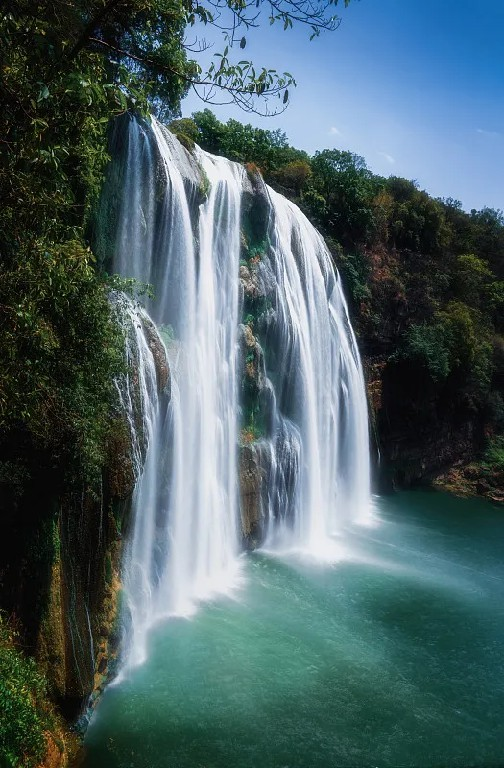Huangguoshu: (113, 114, 378, 685)
